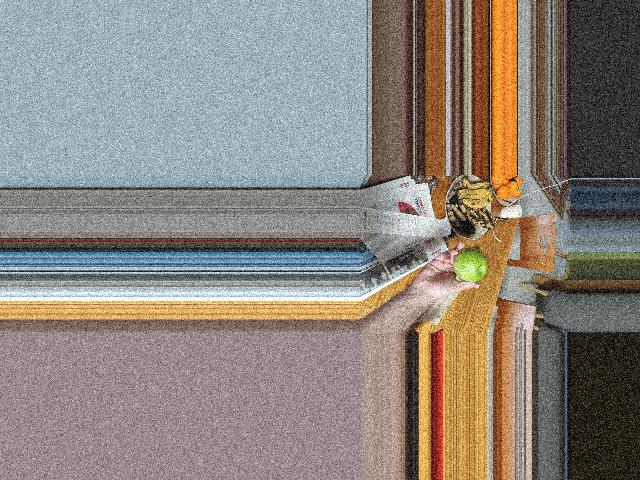apple: (454, 248, 489, 281)
